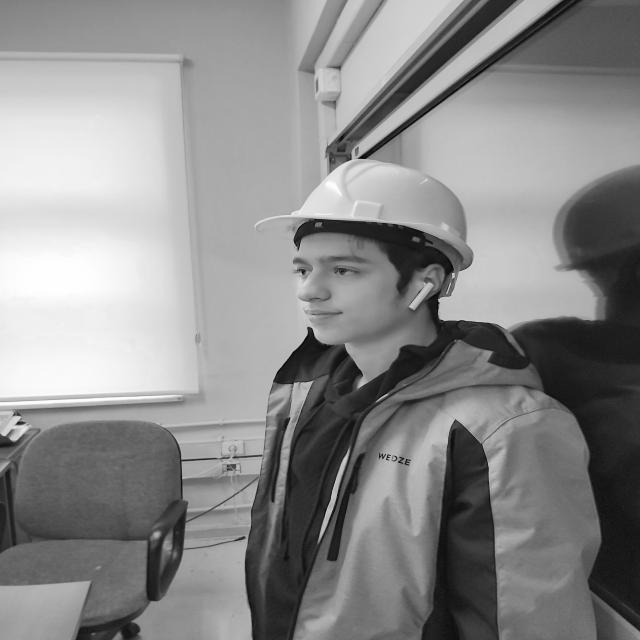safety_helmet: (254, 160, 474, 292)
